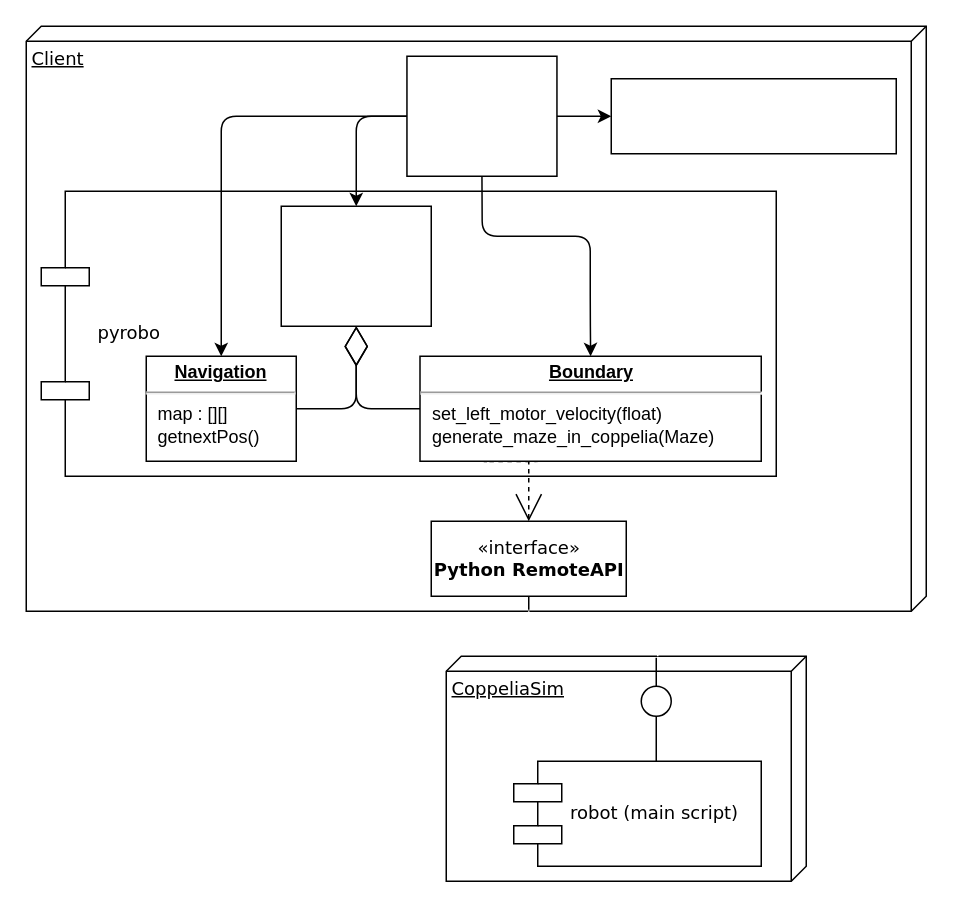
Image size: 953x908. Some labels were removed from this diagram. The shapes that lost their labels are listed below. From the top down, each one's centre as x and y in pixels, then its label:
At point (481, 115): "Main main()".
At point (753, 115): "Maze generate_maze_representation()".
At point (355, 265): "Robo b : Boundary run()".
